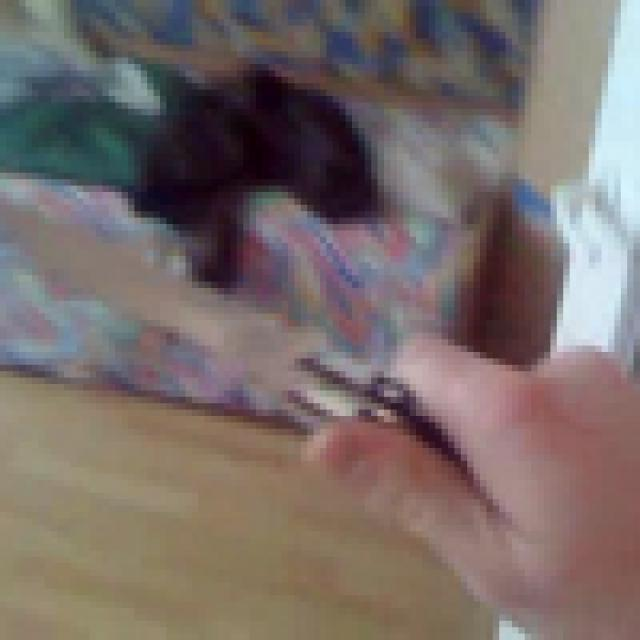weapon: (0, 166, 474, 564)
